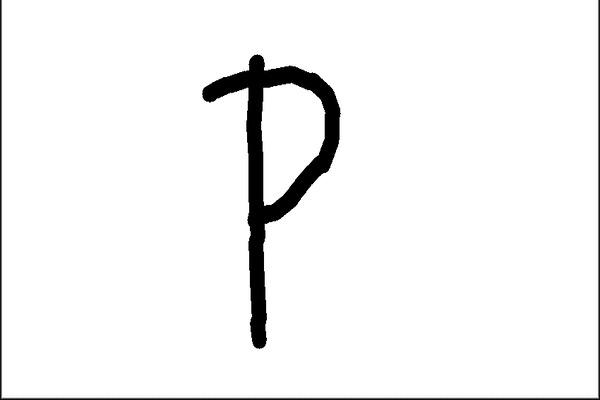P: (196, 44, 350, 364)
